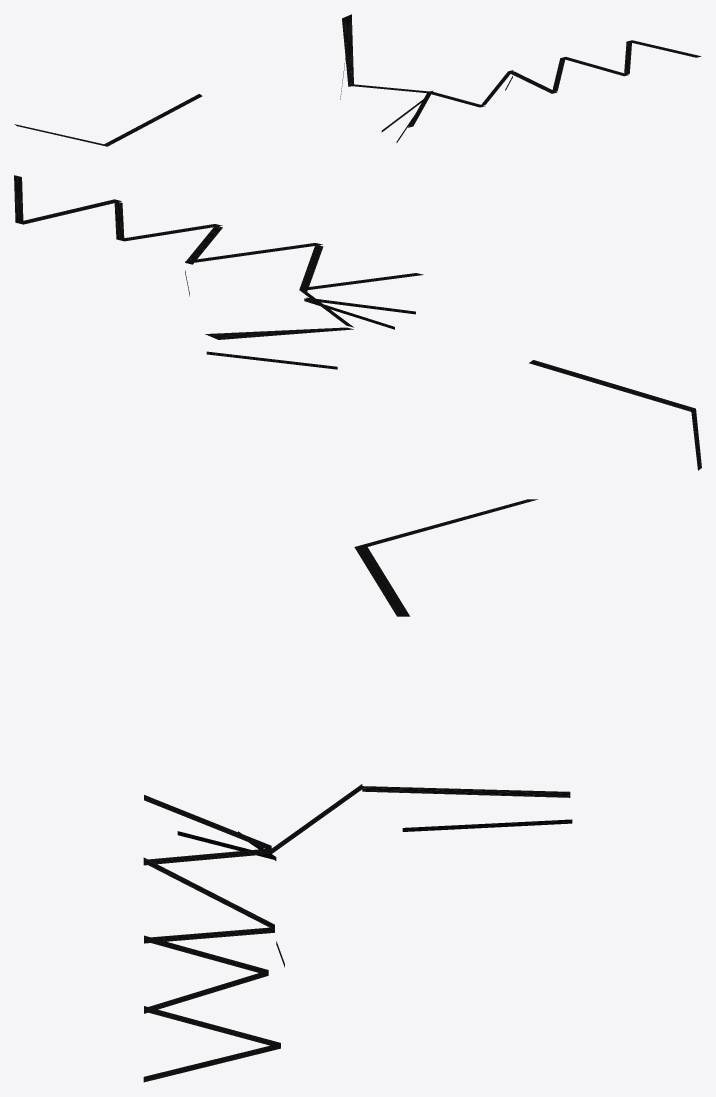
Rendered from snpedteew2_las2.obj.
3 renders of one model, top to bottom at view 1: azimuth 30°, elevation 25°; view 2: azimuth 150°, elevation 25°; view 3: azimuth 270°, elevation 25°, orthographic. The views are drawn at different scales.
Visible parts, largest first — view 1: snpedteew2_las2; view 2: snpedteew2_las2; view 3: snpedteew2_las2.
Boxes of the visible parts, x1=… form: snpedteew2_las2: x1=14, y1=14, x2=701, y2=146; snpedteew2_las2: x1=14, y1=175, x2=701, y2=470; snpedteew2_las2: x1=143, y1=499, x2=572, y2=1082.
Size of the model in its own units: 202 by 14.87 by 63.72.
